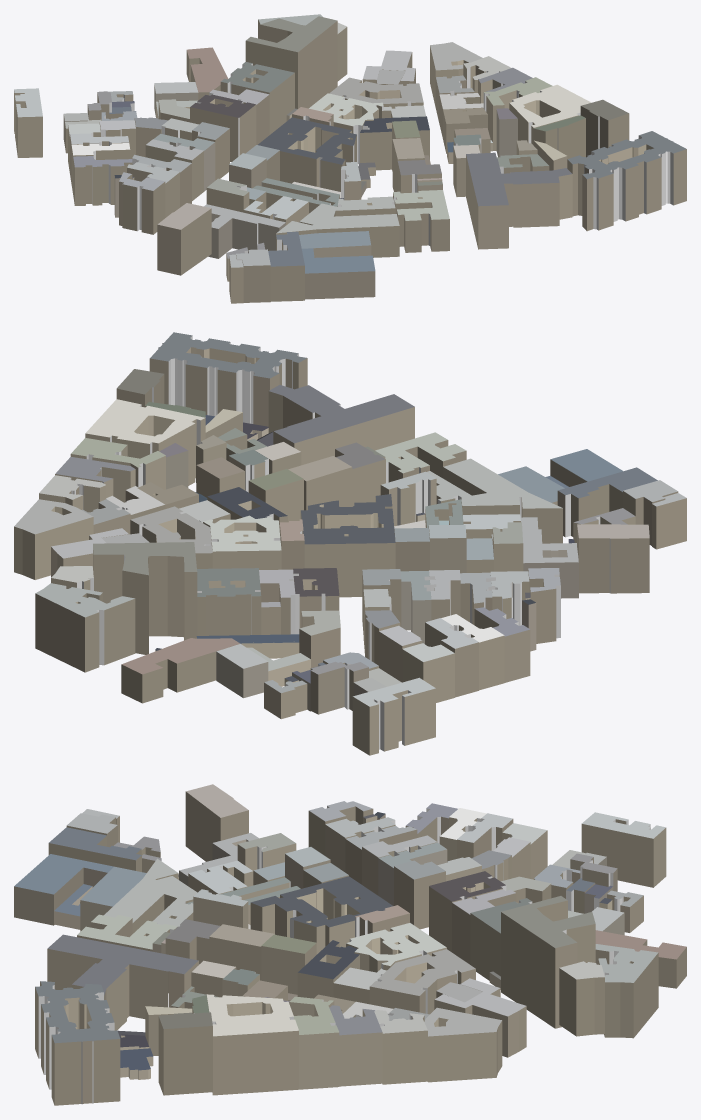
3 views of the same model, one above another, from view 1: azimuth 30°, elevation 25°; view 2: azimuth 150°, elevation 25°; view 3: azimuth 270°, elevation 25° (orthographic). The views are drawn at different scales.
Parts seen in each view (by area): view 1: tuile; view 2: tuile; view 3: tuile.
Part boxes in pixels (x1,y1,x2,y2): tuile: (14, 14, 686, 303); tuile: (14, 332, 686, 755); tuile: (14, 784, 686, 1105).
Size of the model in its own units: 280 by 43.7 by 293.
